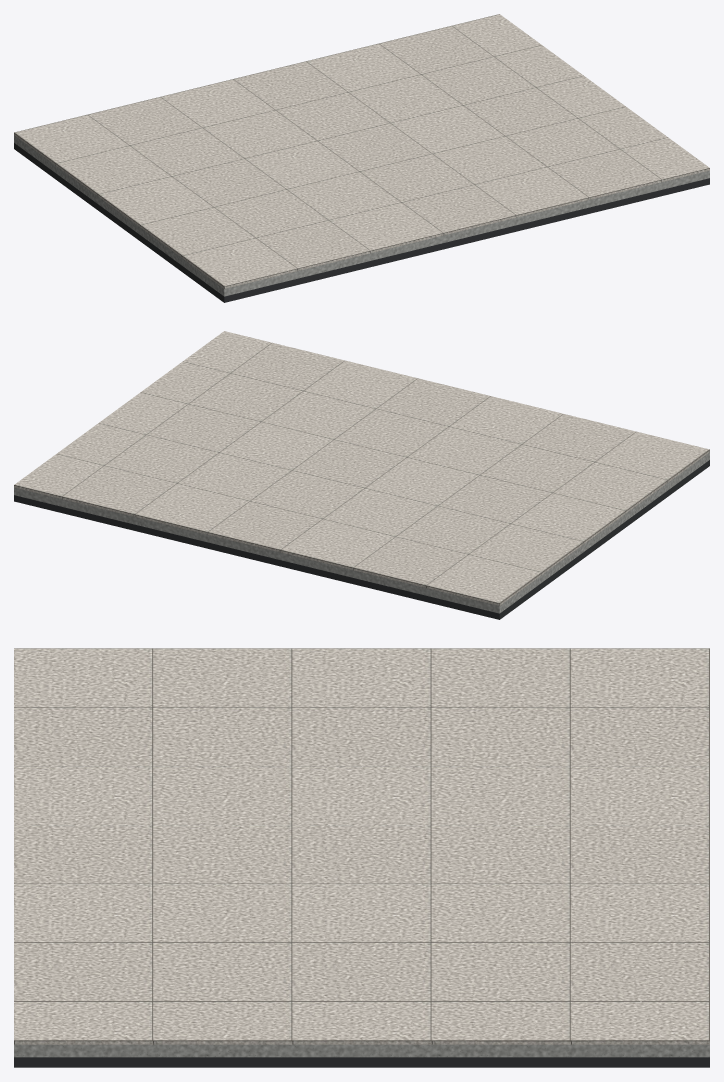
The picture shows the model from 3 angles, top to bottom: view 1: azimuth 30°, elevation 25°; view 2: azimuth 150°, elevation 25°; view 3: azimuth 270°, elevation 25°; orthographic projection. The views are drawn at different scales.
Visible parts, largest first — view 1: climate.heated_zone (×3); view 2: climate.heated_zone (×3); view 3: climate.heated_zone (×3).
Boxes of the visible parts, <box> form: climate.heated_zone (×3): <box>14,14,709,302</box>; climate.heated_zone (×3): <box>14,331,709,619</box>; climate.heated_zone (×3): <box>14,648,709,1067</box>.
Bounding box in the file's own units: 4 × 3 × 0.13.
4 materials, 2 textured.
